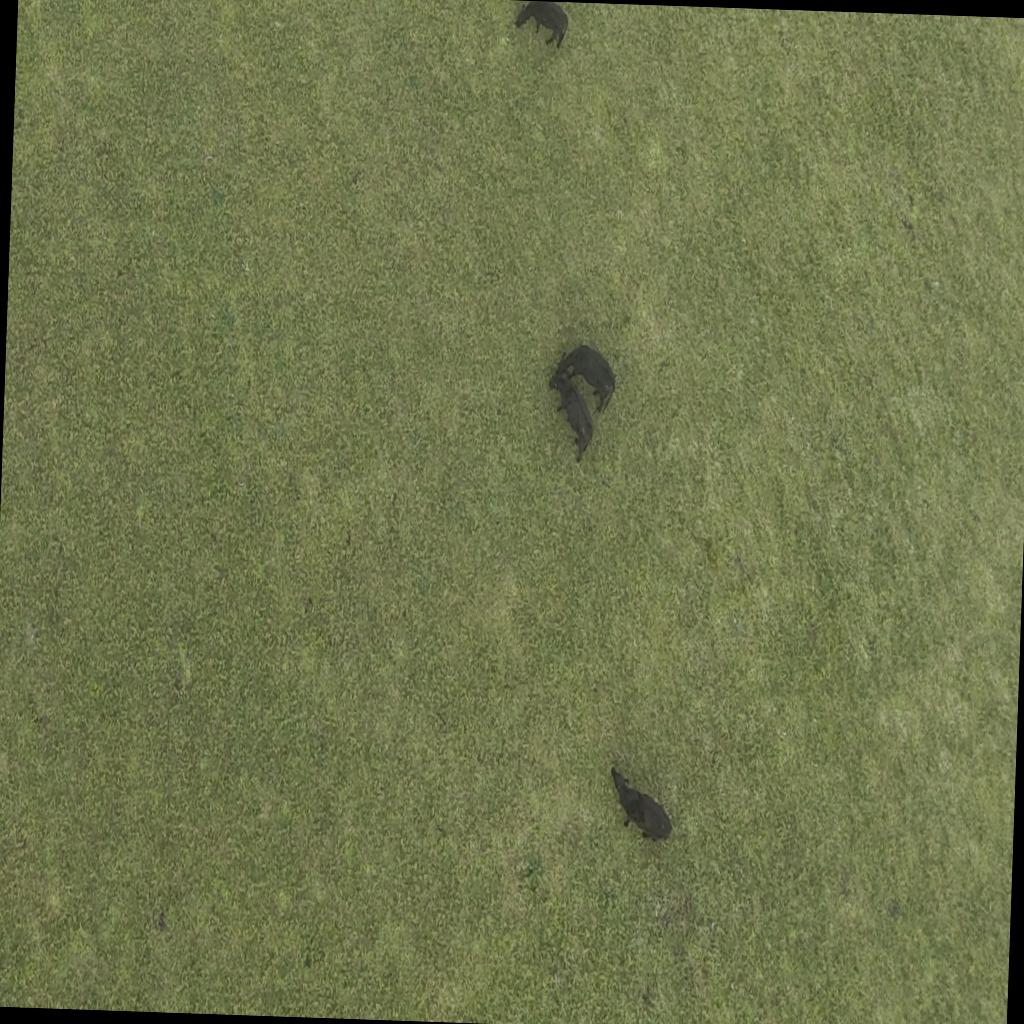cow: (606, 759, 678, 845), (552, 338, 620, 404), (552, 374, 598, 462), (512, 0, 572, 52)
